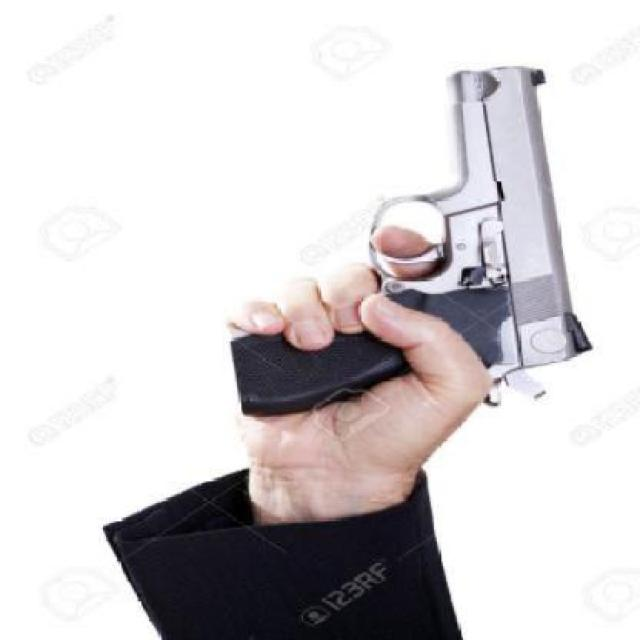gun: (222, 47, 600, 445)
